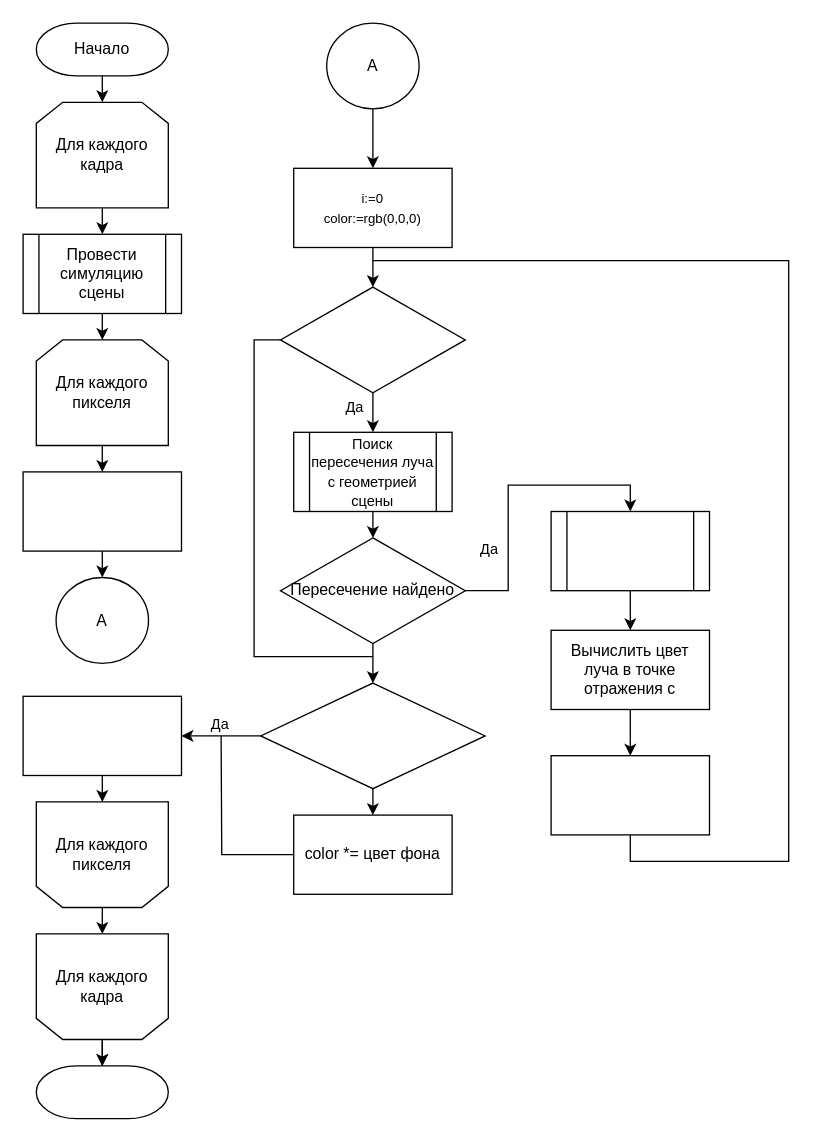
The diagram is 813 pixels wide and 1142 high, and some of its shapes have lost their labels. The shapes that lost their labels are listed below. From the top down, each one's centre as x and y in pixels, then its label:
At pixel 372 339: "i < MAX_BOUNCE_COUNT".
At pixel 102 511: "Создать луч".
At pixel 630 550: "Вычислить характеристики рассеивания".
At pixel 102 735: "Установить цвет пикселя".
At pixel 372 735: "i = MAX_BOUNCE_COUNT".
At pixel 630 794: "color *= c i += 1".
At pixel 101 1092: "Конец".
